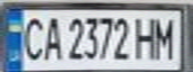2: (63, 14, 84, 61), (112, 15, 133, 61)
3: (81, 14, 100, 61)
7: (96, 14, 115, 61)
A: (39, 12, 63, 62)
C: (18, 14, 48, 62)
H: (133, 14, 160, 61)
M: (151, 13, 181, 60)
